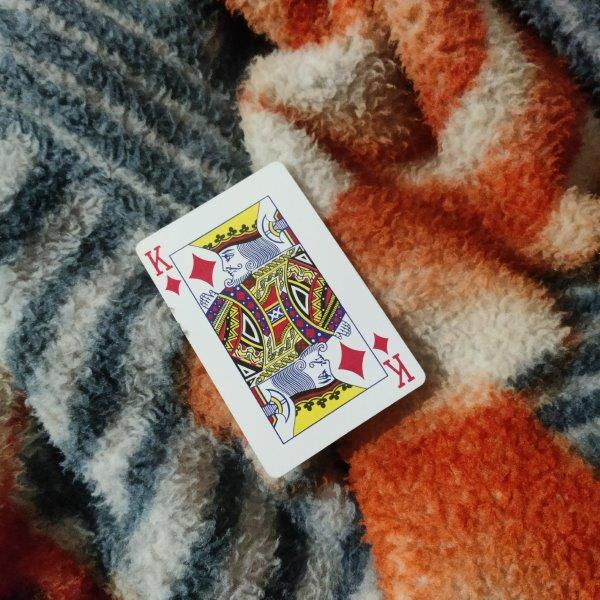King of Diamonds: (133, 161, 427, 480)
